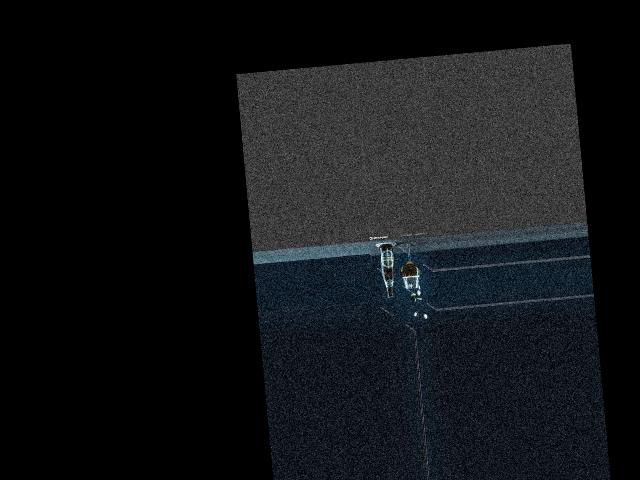beer: (379, 244, 397, 297)
